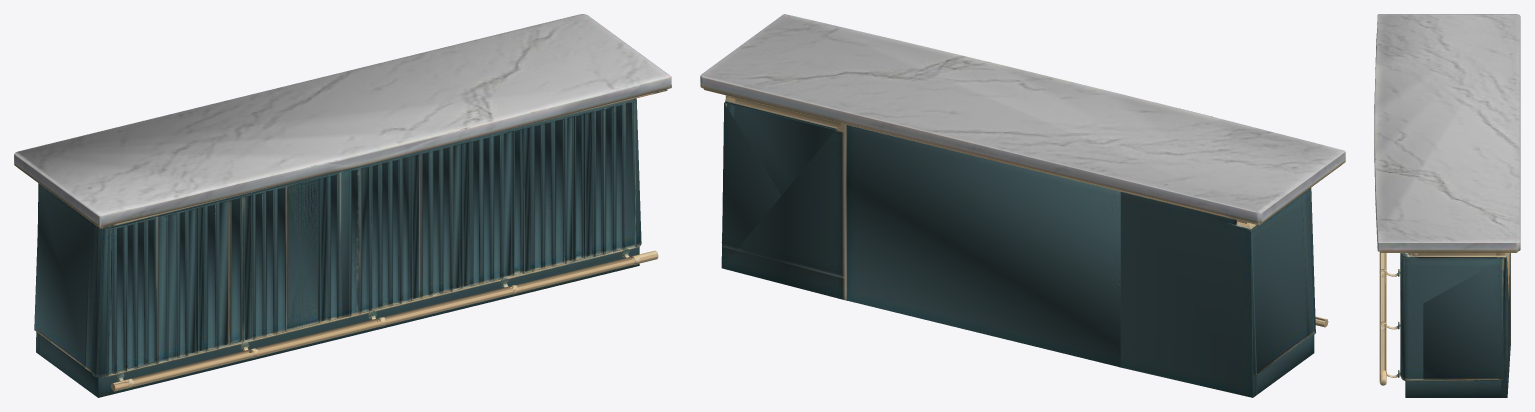
The model's file is bar-counter.glb.
The picture shows the model from 3 angles, left to right: view 1: azimuth 30°, elevation 25°; view 2: azimuth 150°, elevation 25°; view 3: azimuth 270°, elevation 25°; orthographic projection. The views are drawn at different scales.
Parts seen in each view (by area): view 1: tripo_node_c6c27b5d-f3c5-4ba2-a50b-157ba6443d9a; view 2: tripo_node_c6c27b5d-f3c5-4ba2-a50b-157ba6443d9a; view 3: tripo_node_c6c27b5d-f3c5-4ba2-a50b-157ba6443d9a.
Boxes of the visible parts, <box> form: tripo_node_c6c27b5d-f3c5-4ba2-a50b-157ba6443d9a: <box>14,14,671,397</box>; tripo_node_c6c27b5d-f3c5-4ba2-a50b-157ba6443d9a: <box>700,14,1345,397</box>; tripo_node_c6c27b5d-f3c5-4ba2-a50b-157ba6443d9a: <box>1374,14,1520,397</box>.
Bounding box in the file's own units: 3.49 × 1.16 × 0.9435.
Materials: 1 (1 with a texture image).
